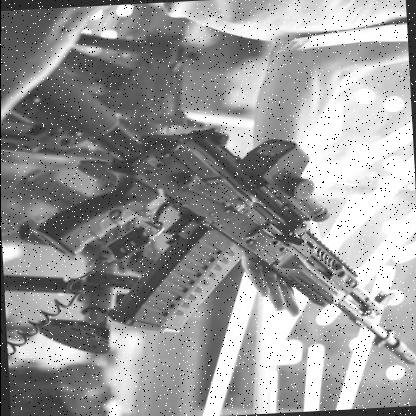rifle: (5, 43, 416, 367)
